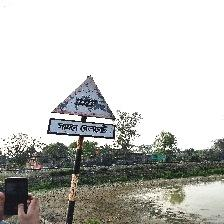Rail-crossing: (49, 76, 117, 139)
